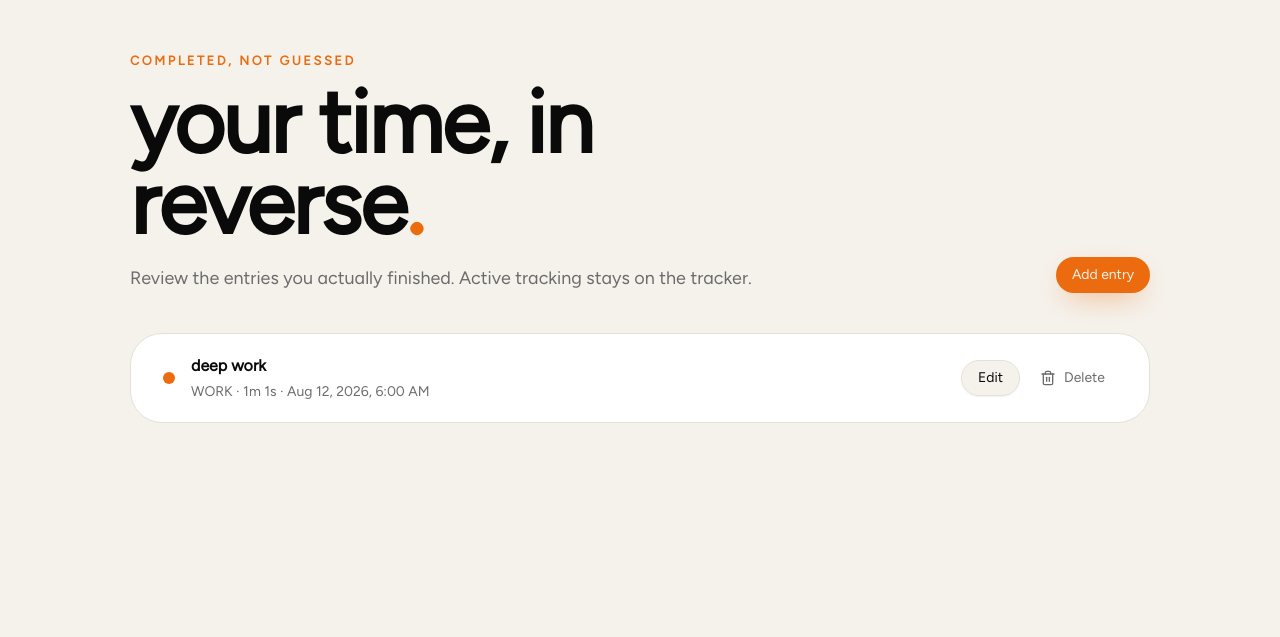
Test case: HistoryPage › shows a retryable refresh failure after a successful mutation
Expected: the text "deep work" is shown, [191,356,266,375]
Step 1. Click the button "Add entry" → [1103, 275], box [1056,257,1150,293]
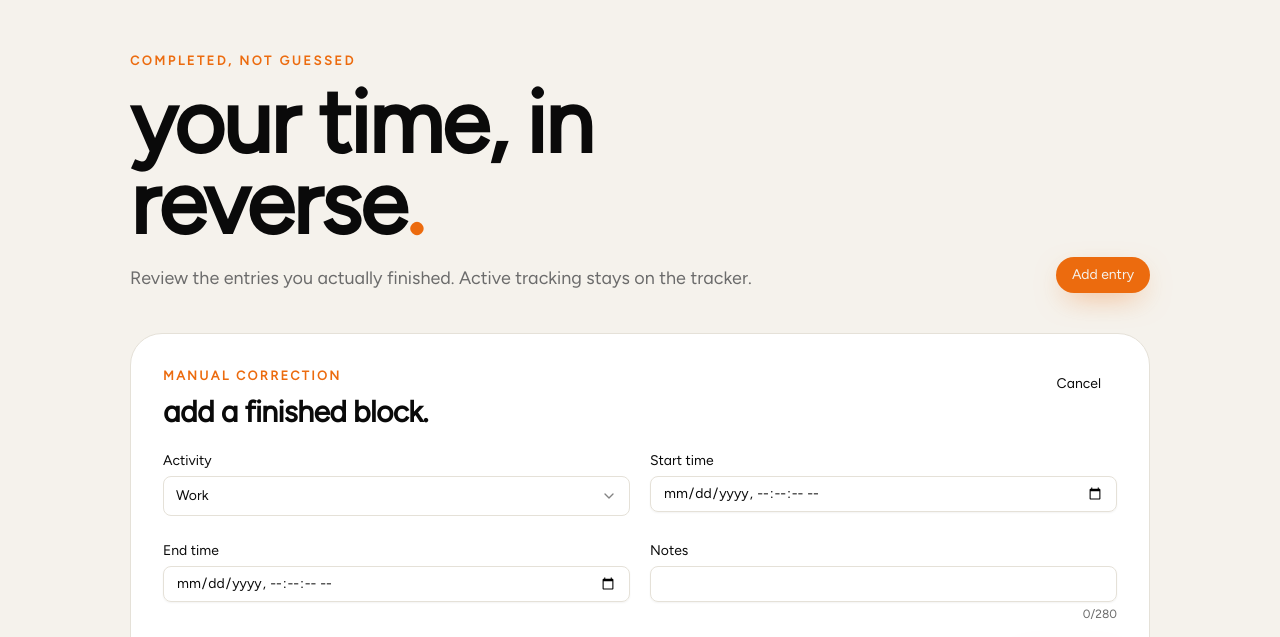
Step 2. Type "2026-08-12T14:30" into the field labelled "Start time" → [884, 494], box [650,476,1117,512]
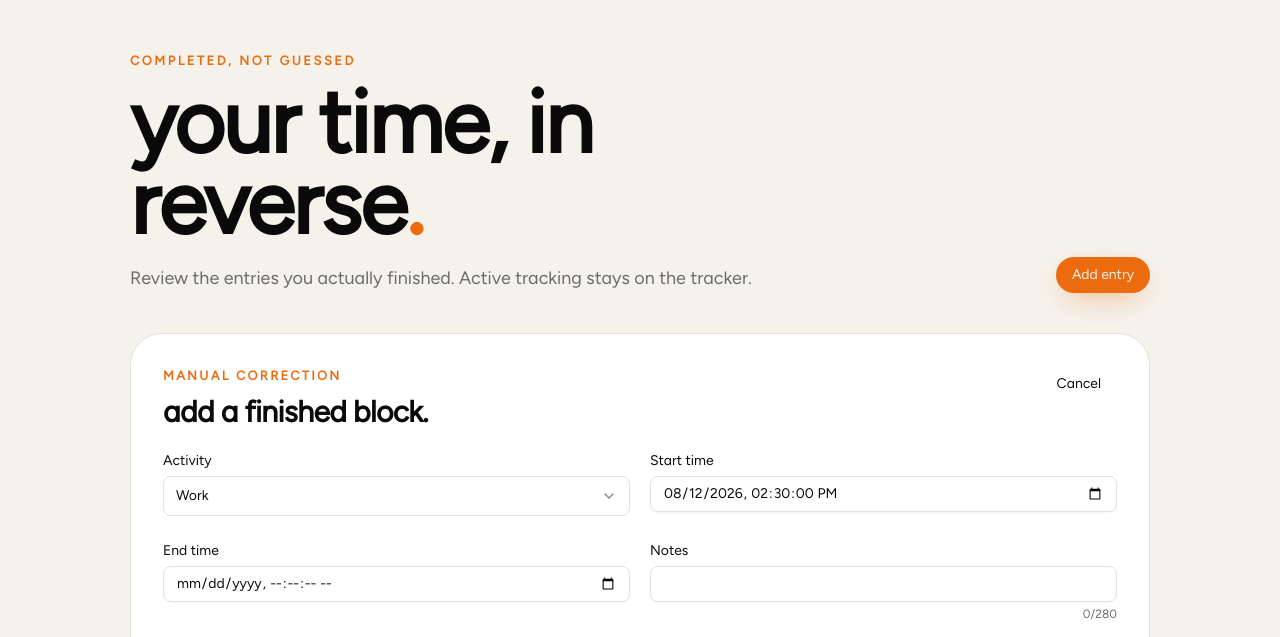
Step 3. Type "2026-08-12T14:45" into the field labelled "End time" → [396, 584], box [163,566,630,602]
(page scrolled)
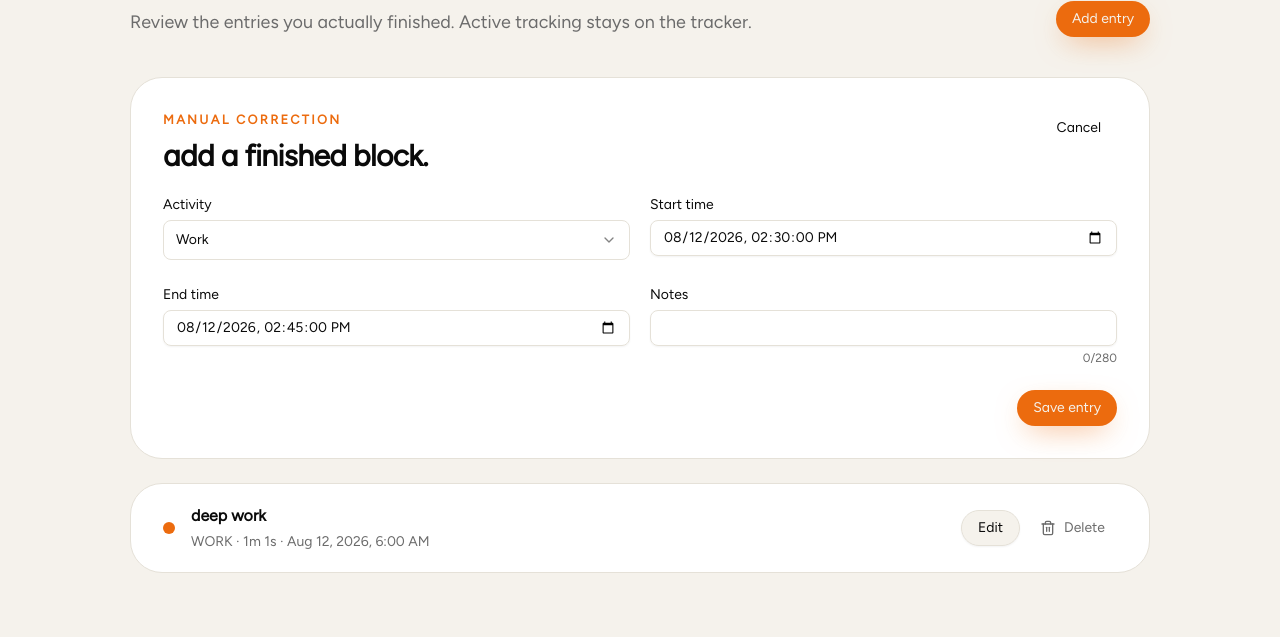
Step 4. Click the button "Save entry" → [1067, 408], box [1017,390,1117,426]
(page scrolled)
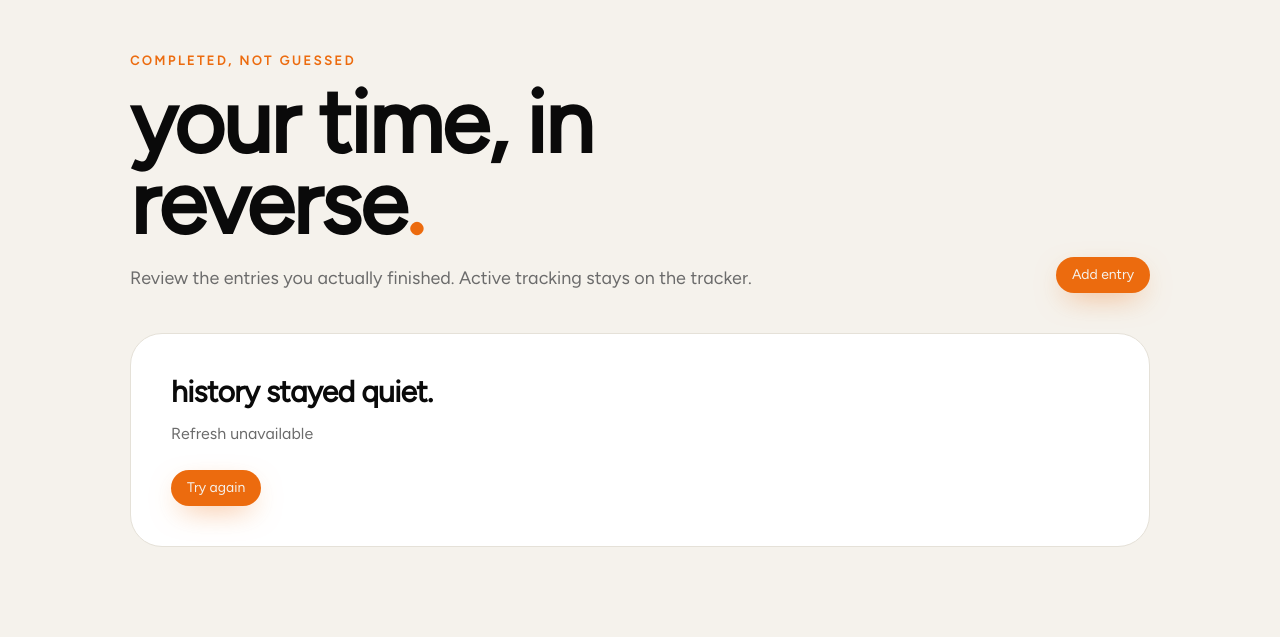
Result: the text "Refresh unavailable" is shown at [171,424,313,443]
Result: the button "Try again" is shown at [171,470,261,506]
